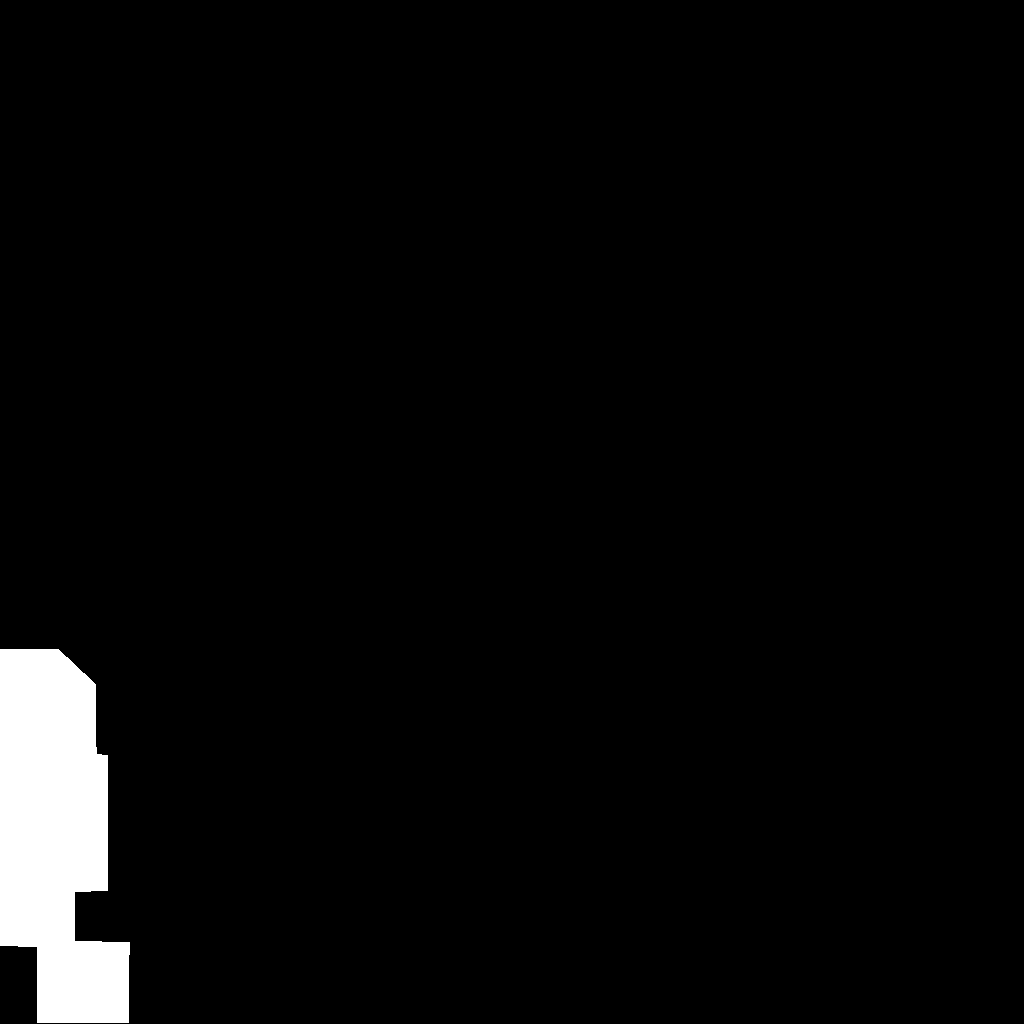building: (0, 649, 130, 1023)
